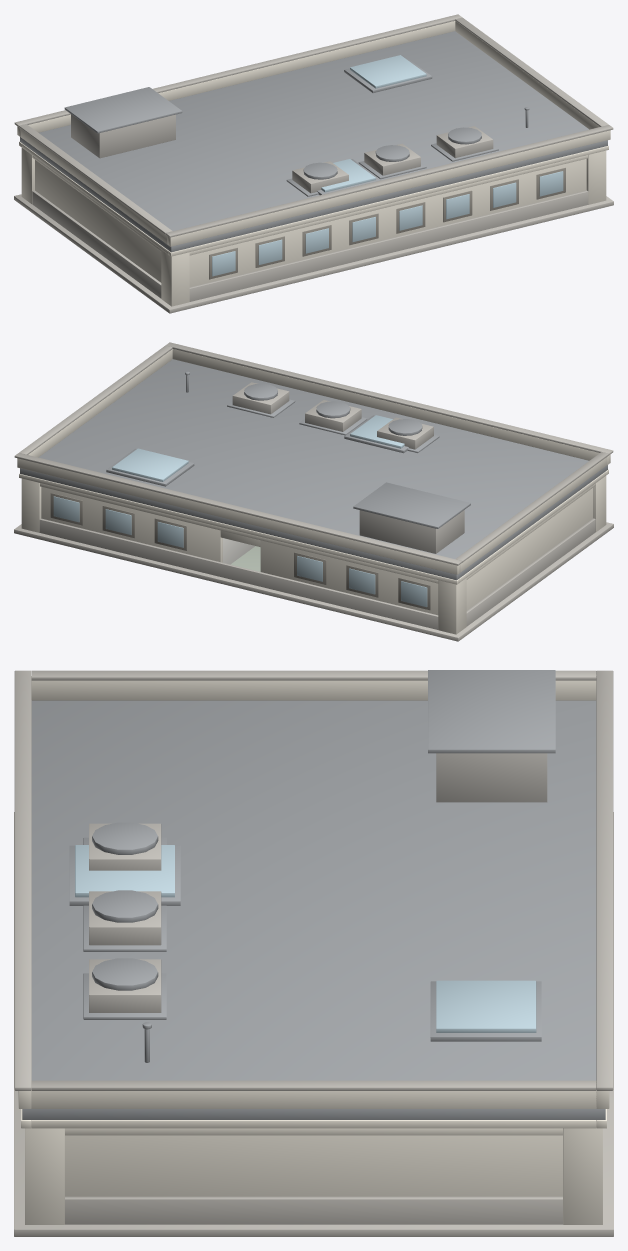
The model's file is th10_schule.glb.
3 renders of one model, top to bottom at view 1: azimuth 30°, elevation 25°; view 2: azimuth 150°, elevation 25°; view 3: azimuth 270°, elevation 25°, orthographic. The views are drawn at different scales.
Parts seen in each view (by area): view 1: Cube.053, Cube.007, Cube.336, Cube, Cube.348, Cube.008, Cube.349, Cube.357, Cube.352, Cube.356, Cube.353, Cube.344 (+28 smaller); view 2: Cube.053, Cube.337, Cube, Cube.348, Cube.349, Cube.008, Cube.005, Cube.004, Cube.357, Cube.353, Cube.352, Cube.356 (+29 smaller); view 3: Cube.053, Cube.009, Cube.339, Cube, Cube.357, Cube.351, Cube.350, Cube.352, Cube.353, Cube.355, Cube.356, Cube.365 (+16 smaller).
Part boxes in pixels (x1,y1,x2,y2): Cube.053: (20, 31, 607, 252); Cube.007: (189, 159, 586, 287); Cube.336: (189, 190, 588, 301); Cube: (14, 194, 613, 313); Cube.348: (167, 130, 610, 246); Cube.008: (35, 160, 161, 282); Cube.349: (17, 21, 455, 136); Cube.357: (64, 87, 182, 133); Cube.352: (165, 125, 613, 237); Cube.356: (71, 114, 175, 158); Cube.353: (14, 14, 461, 126); Cube.344: (168, 145, 608, 256); Cube.053: (20, 359, 607, 580); Cube.337: (39, 518, 438, 629); Cube: (14, 522, 613, 641); Cube.348: (172, 349, 610, 464); Cube.349: (17, 458, 460, 574); Cube.008: (466, 488, 592, 610); Cube.005: (41, 487, 222, 562); Cube.004: (260, 540, 438, 615); Cube.357: (353, 482, 470, 528); Cube.353: (14, 453, 462, 565); Cube.352: (166, 342, 613, 454); Cube.356: (359, 510, 464, 553); Cube.053: (22, 700, 605, 1119); Cube.009: (65, 1135, 562, 1196); Cube.339: (65, 1196, 562, 1224); Cube: (14, 812, 613, 1236); Cube.357: (428, 670, 555, 753); Cube.351: (31, 1090, 596, 1108); Cube.350: (31, 680, 596, 700); Cube.352: (14, 670, 31, 1090); Cube.353: (596, 670, 613, 1090); Cube.355: (31, 1080, 596, 1090); Cube.356: (436, 753, 547, 802); Cube.365: (436, 980, 536, 1032).
Bounding box in the file's own units: 35.6 × 7.26 × 21.6.
